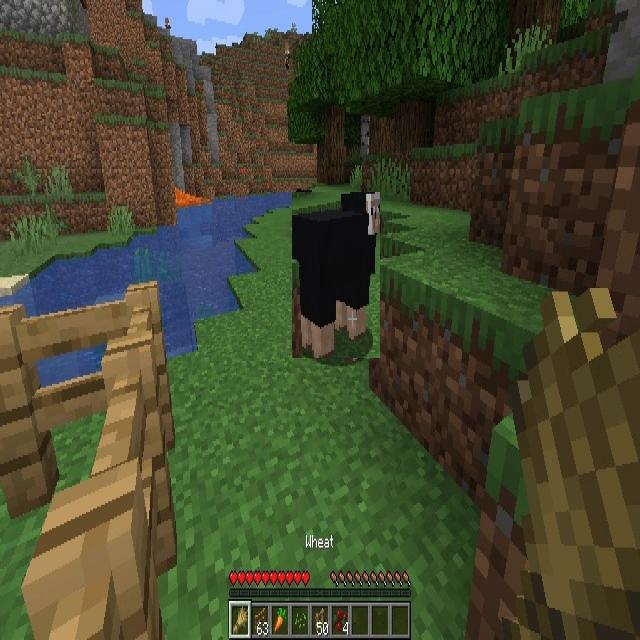sheep: (292, 192, 380, 358)
